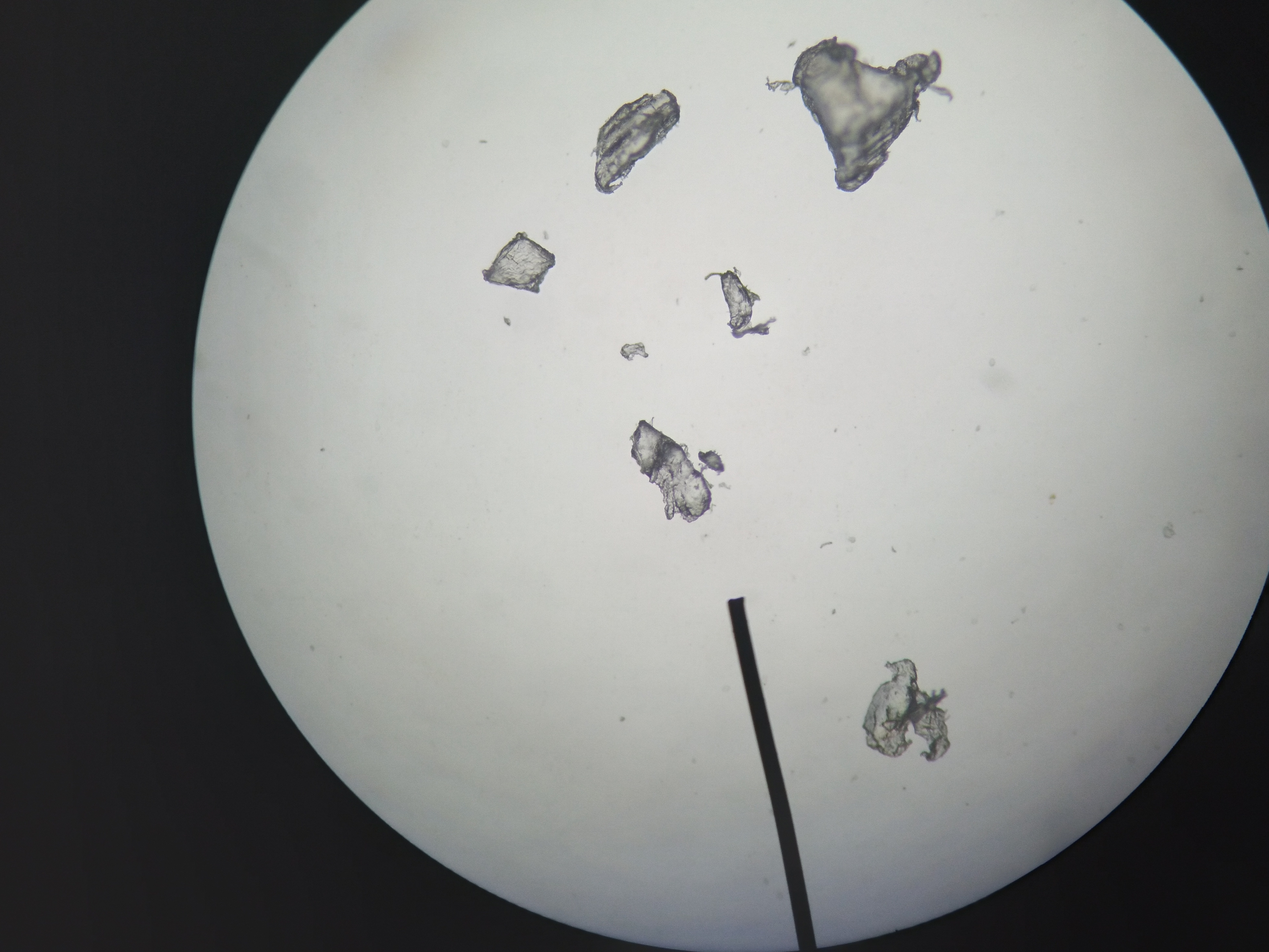microplastic: (764, 34, 960, 198), (628, 417, 733, 533), (860, 658, 960, 770), (591, 84, 688, 197), (478, 229, 561, 300), (705, 267, 777, 342), (618, 339, 652, 363), (501, 311, 514, 329)
